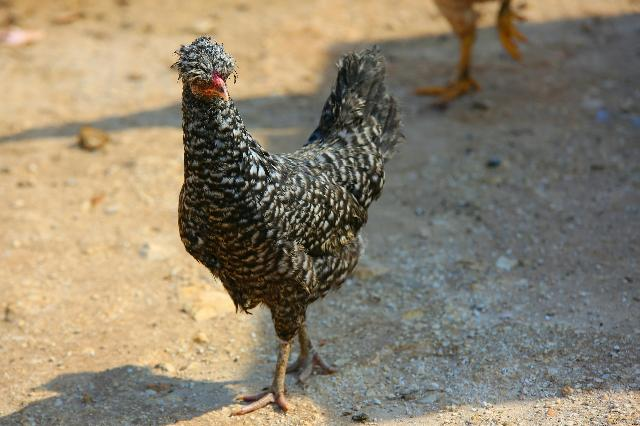Chicken: (170, 36, 403, 414)
